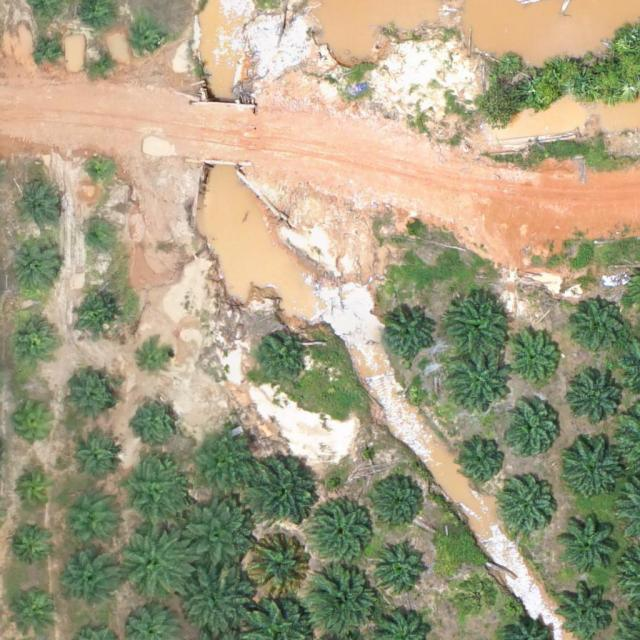Dead: (455, 573, 502, 620)
Healthy: (117, 522, 195, 601), (244, 450, 322, 529), (304, 560, 382, 639), (174, 500, 252, 578), (121, 459, 191, 530), (190, 427, 260, 498), (308, 500, 378, 571), (560, 437, 623, 500), (557, 512, 620, 575), (449, 351, 512, 414), (58, 494, 120, 557), (447, 293, 509, 356), (63, 551, 118, 606), (574, 299, 629, 354), (507, 334, 562, 389), (505, 404, 560, 459), (500, 481, 555, 536), (381, 309, 436, 364), (570, 374, 624, 429), (376, 540, 430, 595), (373, 474, 427, 529), (15, 242, 62, 289)
Small: (67, 373, 122, 428), (69, 433, 124, 488), (255, 334, 310, 389), (455, 434, 509, 489), (15, 181, 62, 229), (72, 294, 119, 342), (11, 591, 58, 639), (136, 396, 183, 444), (10, 316, 57, 363), (14, 399, 61, 446), (8, 522, 55, 569), (12, 467, 59, 514), (139, 339, 178, 379), (35, 35, 66, 67), (88, 48, 119, 80), (133, 27, 164, 58), (84, 157, 115, 188), (81, 224, 112, 255)
Yellow: (245, 530, 315, 601)
